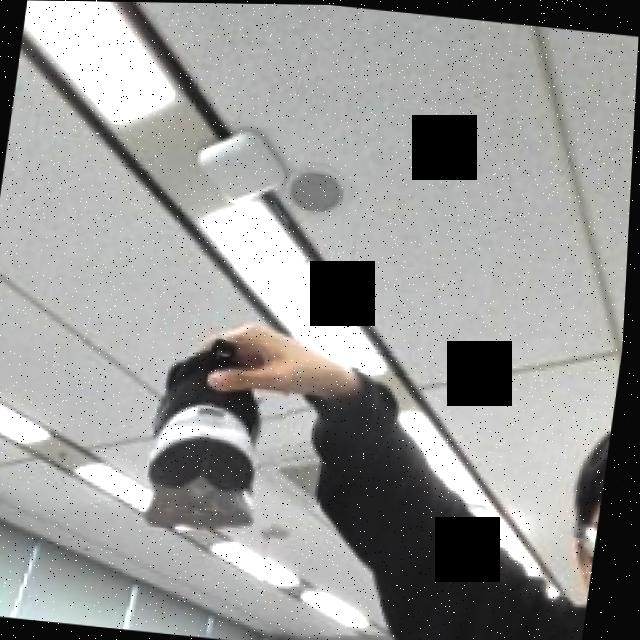shoe: (93, 238, 311, 590)
